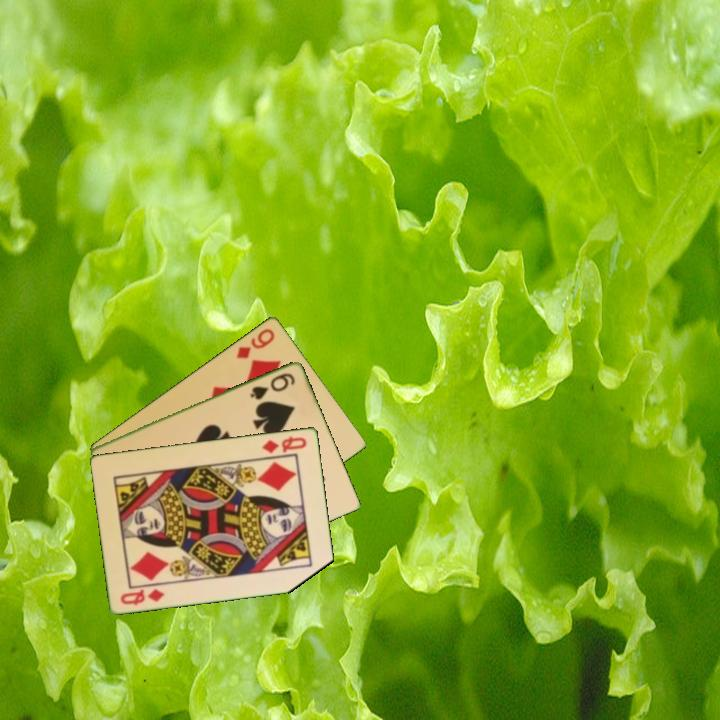6s: (247, 369, 298, 402)
9d: (233, 325, 278, 361)
Qd: (258, 432, 310, 455), (117, 585, 168, 608)
